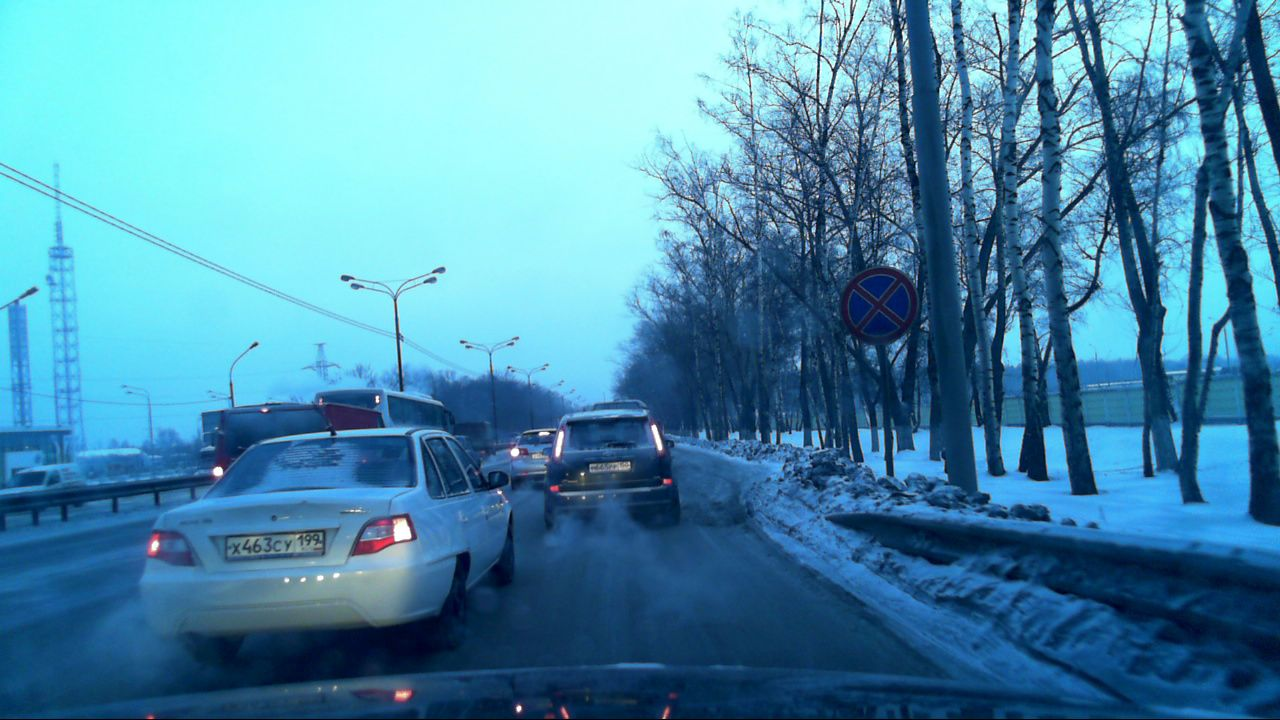No Parking: (840, 264, 917, 343)
